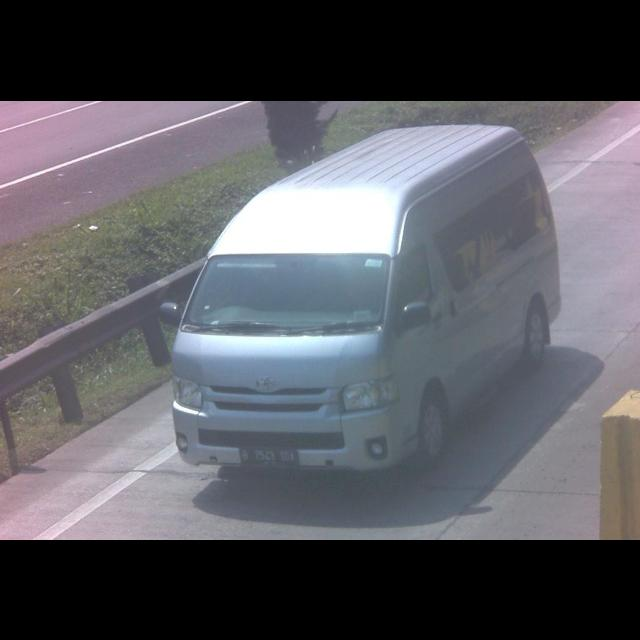plate: (234, 442, 302, 470)
